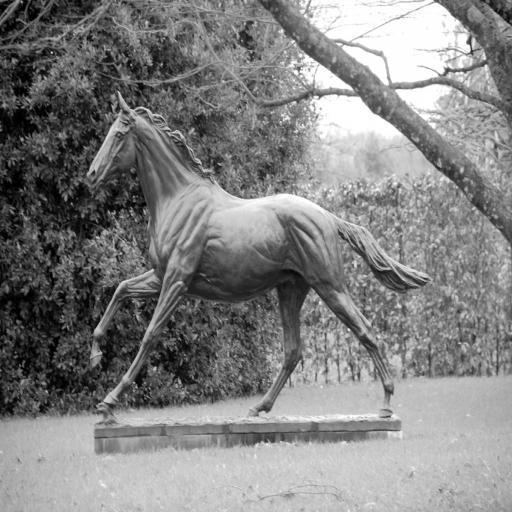horse: (82, 86, 430, 418)
